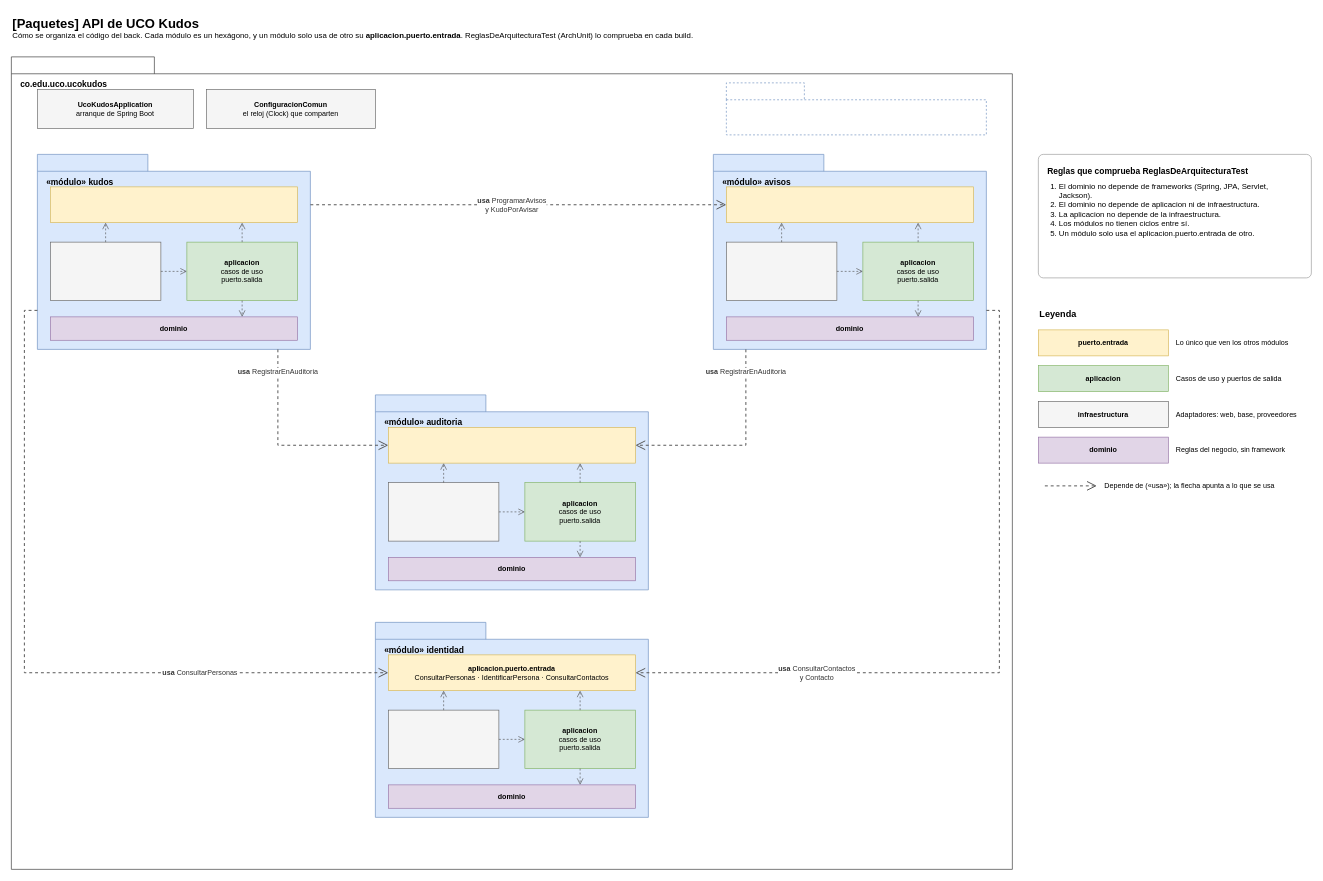
Image size: 1323x881. Some labels were removed from this diagram. The shapes that lost their labels are listed below. From the top down, each one's centre as x and y in pixels, then its label:
At pixel 856 108: "«módulo» moderacion solo diseñado: sus paquetes están vacíos".
At pixel 173 204: "aplicacion.puerto.entrada PublicarKudo · ConsultarMuro · ConsultarCategorias".
At pixel 849 204: "aplicacion.puerto.entrada ProgramarAvisos · DespacharAvisos".
At pixel 105 271: "infraestructura web persistencia configuracion".
At pixel 781 271: "infraestructura canales · envivo programacion persistencia · configuracion".
At pixel 511 445: "aplicacion.puerto.entrada RegistrarEnAuditoria · HechoAuditable".
At pixel 443 511: "infraestructura persistencia configuracion".
At pixel 443 739: "infraestructura web · seguridad persistencia configuracion".
